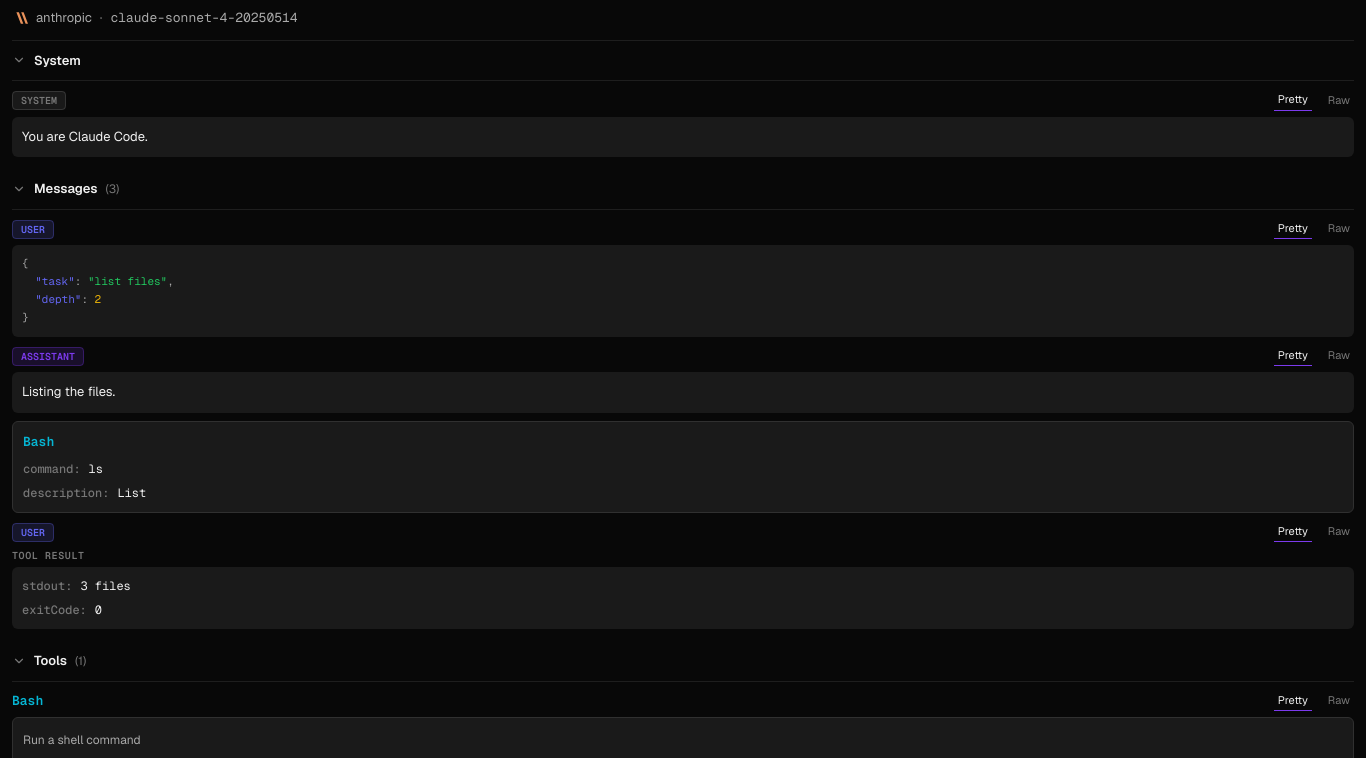
it: PromptViewer Pretty / Raw per box › a string that holds JSON is pretty-printed in Pretty and kept as stored in Raw
The image size is (1366, 758).
Expected: the element with test id "prompt-box-message-0" is shown, [12, 218, 1354, 337]
Expected: the element showing "{ \"task\": \"list files\", \"depth\": 2 }" shows "\"task\": \"list files\"", [22, 256, 174, 324]
Click the button with test id "prompt-box-message-0-raw": (1339, 229) [1324, 218, 1354, 239]
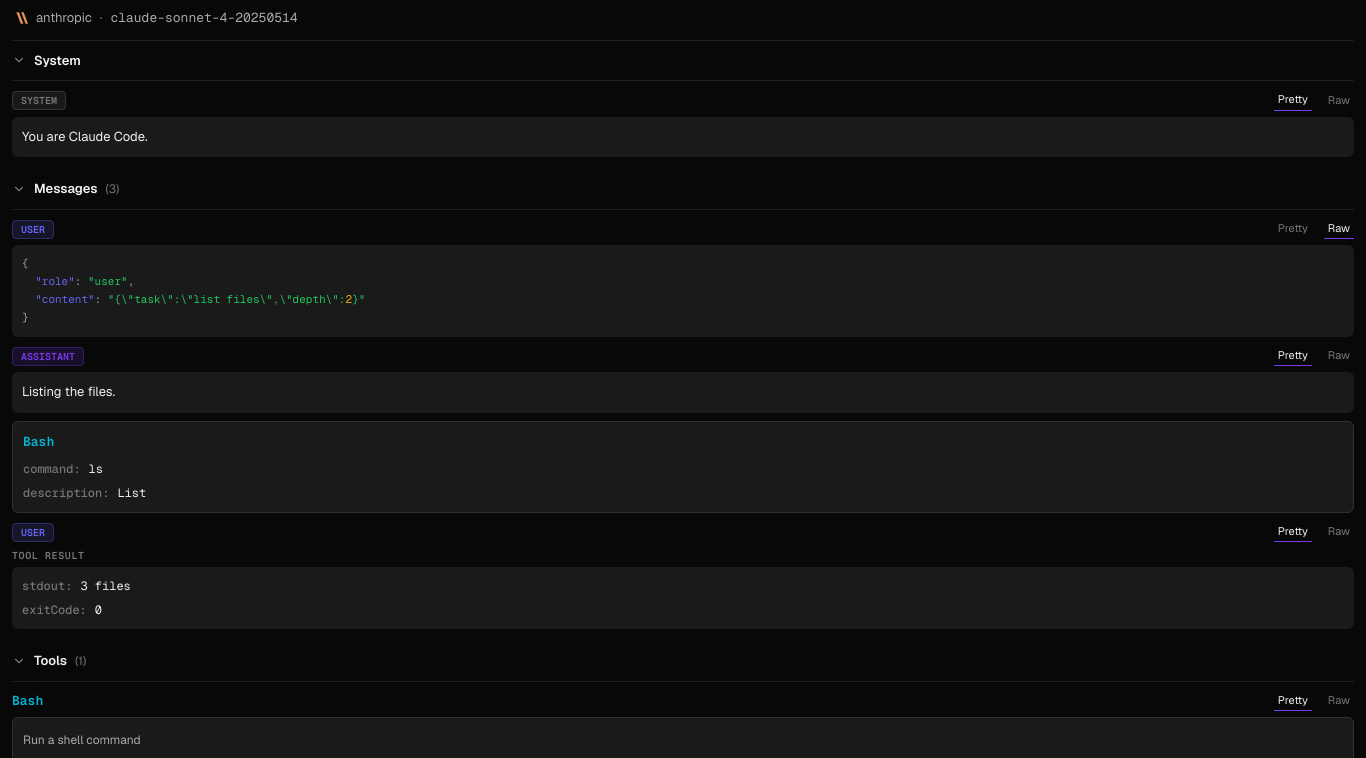
Expected: the element with test id "prompt-box-message-0-raw-json" shows "\"content\": \"{\\\"task\\\":\\\"list files\\\",\\\"depth\\\":2}\"", [12, 245, 1354, 337]
Expected: the element with test id "prompt-box-message-0-raw-json" shows "\"role\": \"user\"", [12, 245, 1354, 337]
